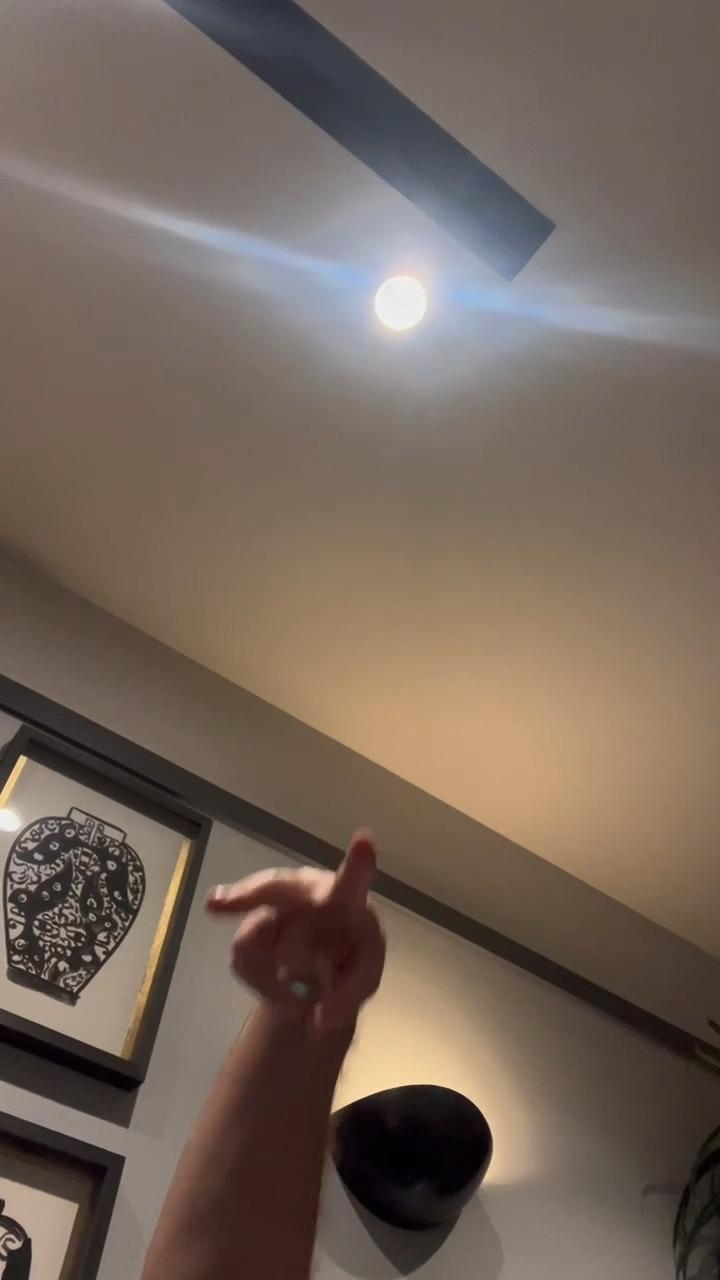Scissors: (206, 834, 390, 1033)
